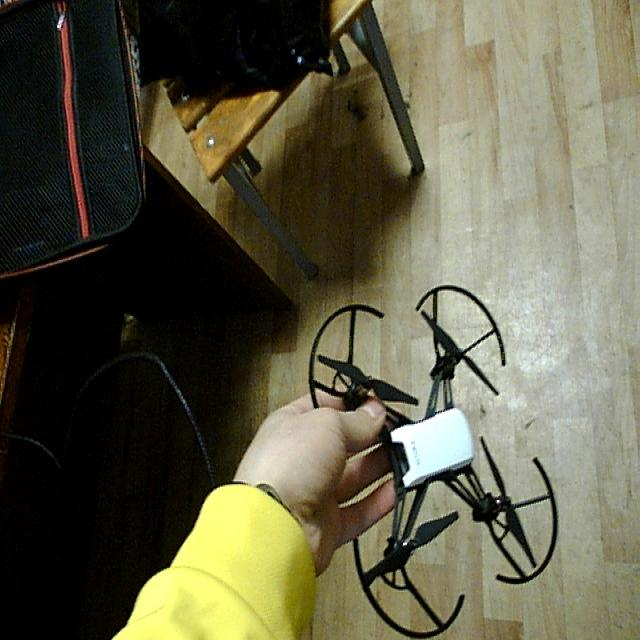drone: (307, 280, 567, 640)
